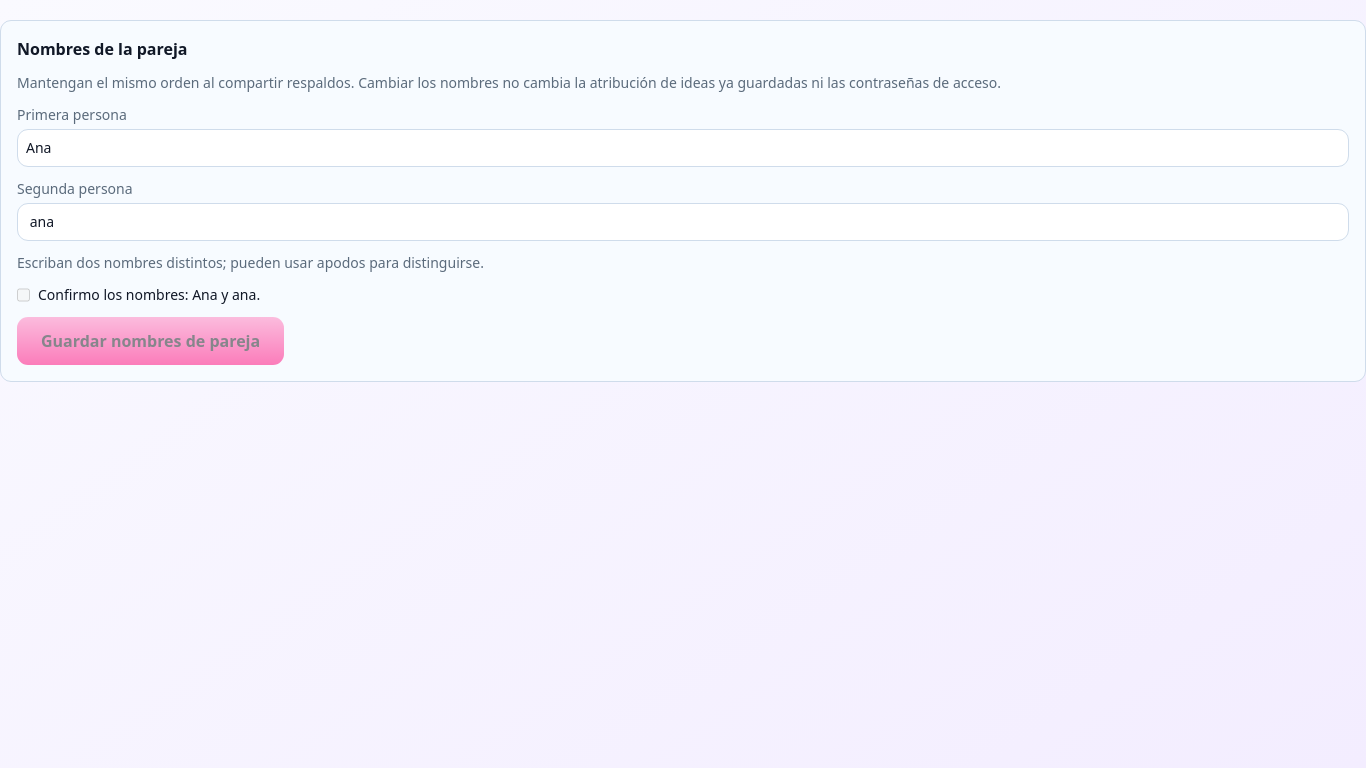
Test: rechaza nombres vacíos o indistinguibles y conserva el formulario si falla el guardado
Check: the checkbox is disabled, box [17,285,30,305]
Replace the text in the field labelled "Segunda persona" with "Luz". click: [683, 222]
box: [17,203,1349,241]
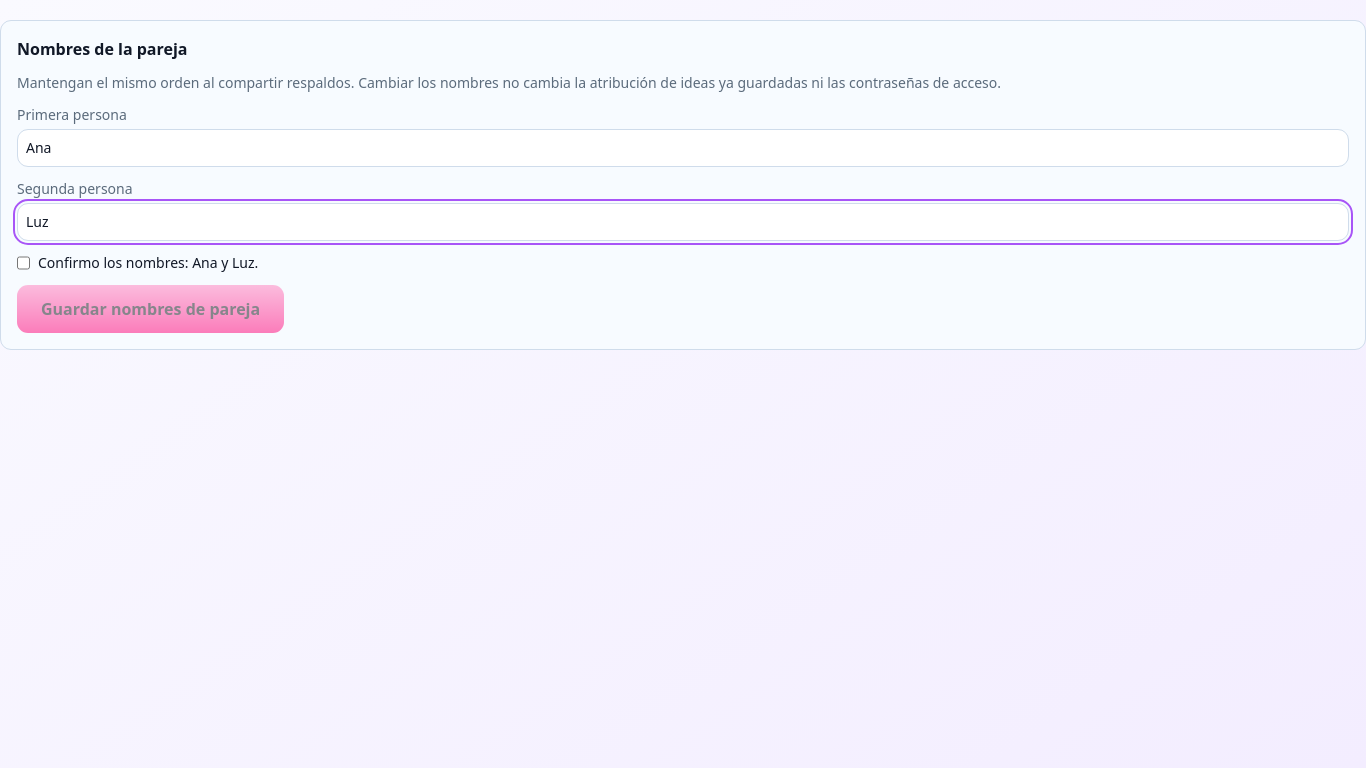
Click the checkbox. click: [24, 263]
box: [17,253,30,273]
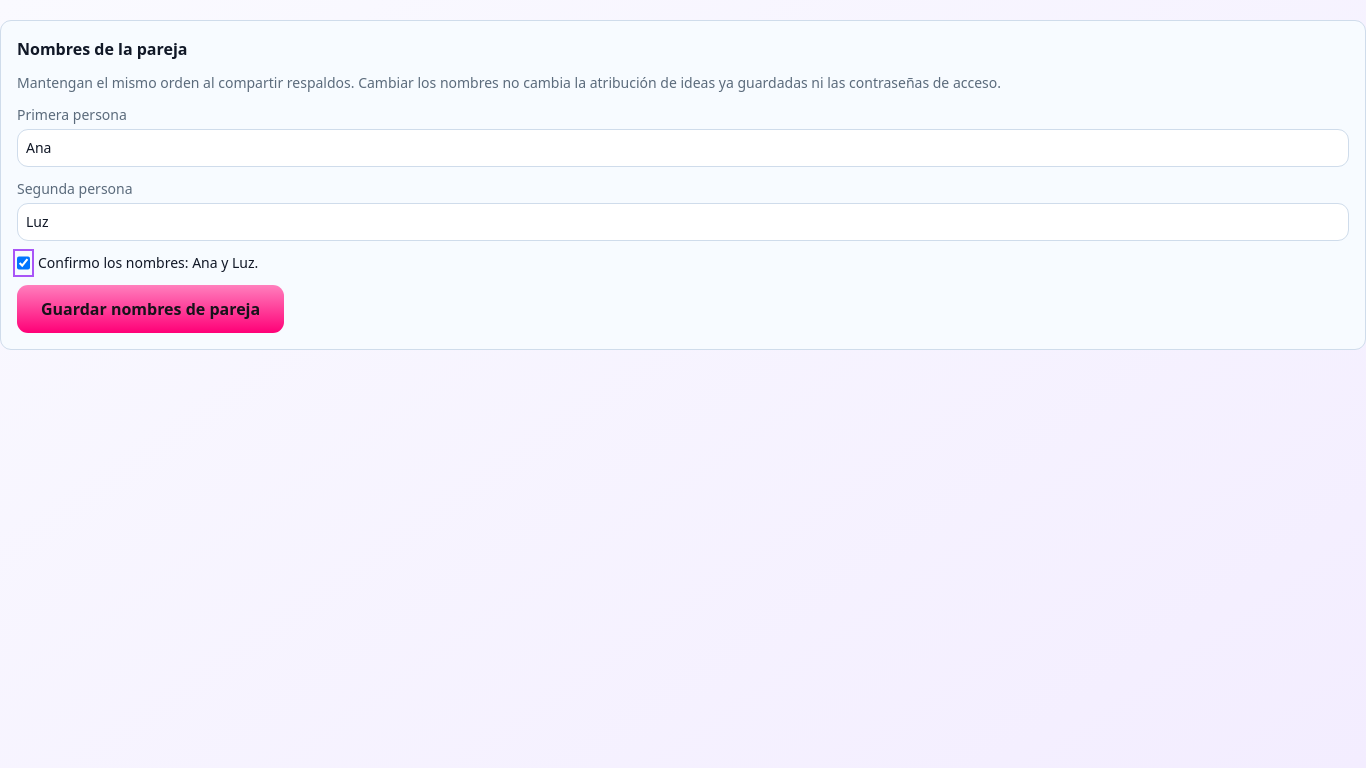
Click the button "Guardar nombres de pareja". click: [151, 309]
box: [17,285,284,333]
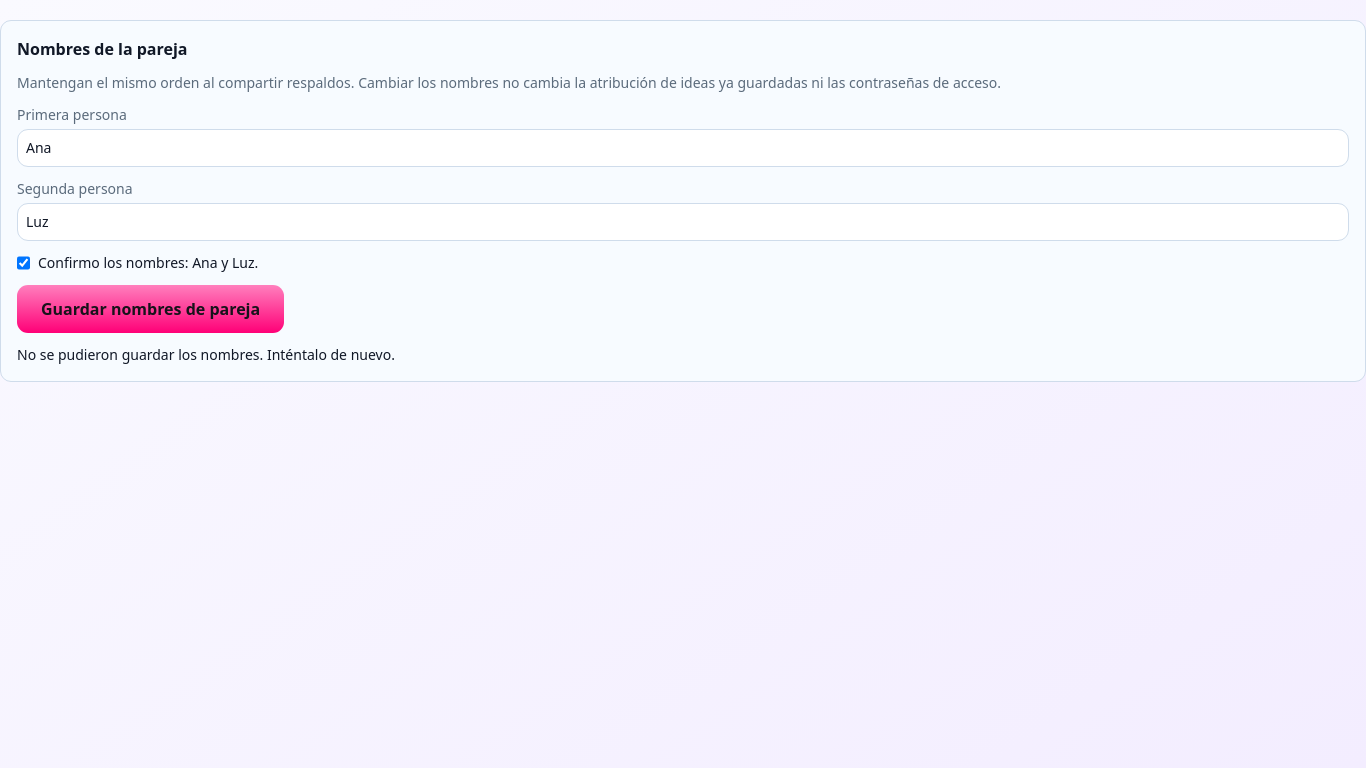
Check: the message shows "No se pudieron guardar", box [17,345,395,364]
